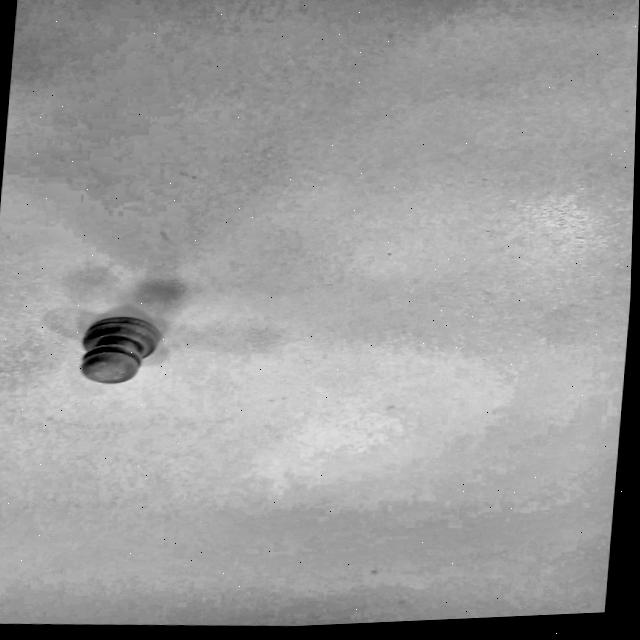white-pawn: (58, 284, 180, 395)
